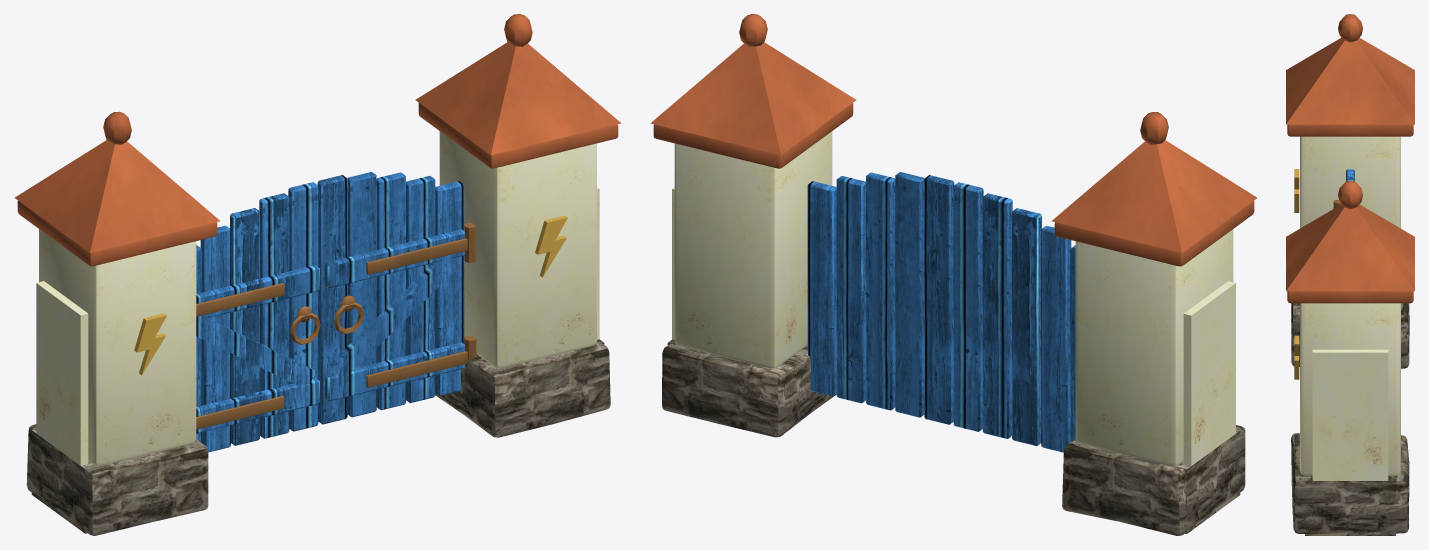
File: decor_garden-gate_t1_azure.glb
The picture shows the model from 3 angles, left to right: view 1: azimuth 30°, elevation 25°; view 2: azimuth 150°, elevation 25°; view 3: azimuth 270°, elevation 25°; orthographic projection. The views are drawn at different scales.
Visible parts, largest first — view 1: plaster, azure_wood, terracotta, stone_dark, bronze, gold; view 2: azure_wood, plaster, terracotta, stone_dark; view 3: plaster, terracotta, stone_dark, gold.
Boxes of the visible parts, x1,y1,x2,y2 form: plaster: (36, 131, 599, 466); azure_wood: (196, 172, 464, 452); terracotta: (14, 14, 620, 266); stone_dark: (26, 339, 610, 535); bronze: (196, 222, 476, 429); gold: (134, 215, 567, 375); azure_wood: (807, 172, 1075, 452); plaster: (672, 131, 1235, 466); terracotta: (650, 14, 1257, 266); stone_dark: (662, 339, 1245, 535); plaster: (1300, 136, 1400, 480); terracotta: (1286, 14, 1414, 303); stone_dark: (1291, 303, 1409, 535); gold: (1294, 169, 1299, 379).
Bounding box in the file's own units: 2.07 × 1.44 × 0.5091.
Materials: 6 (5 with a texture image).
